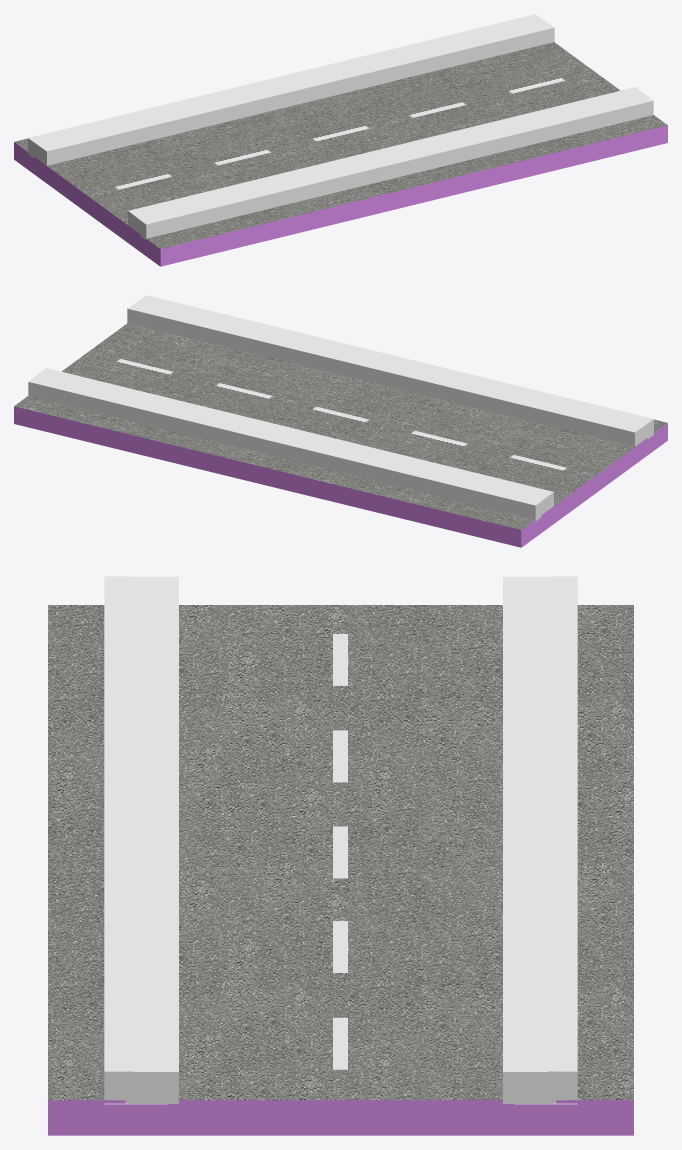
Rendered from Road1.FBX.
3 renders of one model, top to bottom at view 1: azimuth 30°, elevation 25°; view 2: azimuth 150°, elevation 25°; view 3: azimuth 270°, elevation 25°, orthographic. The views are drawn at different scales.
Visible parts, largest first — view 1: Road; view 2: Road; view 3: Road.
Boxes of the visible parts, <box> form: Road: <box>14,14,667,266</box>; Road: <box>14,295,667,547</box>; Road: <box>48,576,633,1135</box>.
Size of the model in its own units: 601 by 36.05 by 300.
